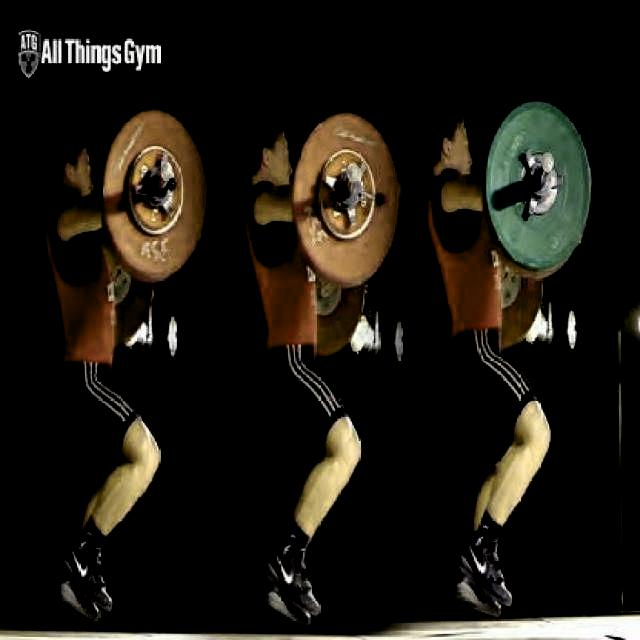barbell: (485, 88, 597, 282), (100, 101, 217, 286), (291, 103, 405, 292)
